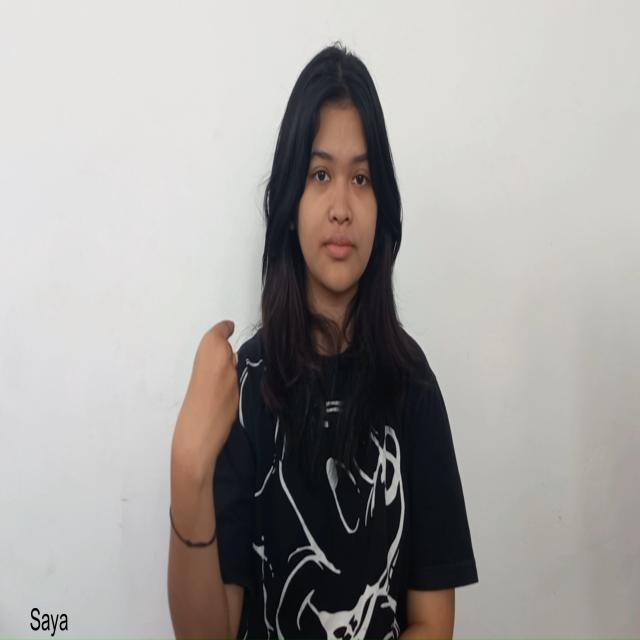Saya -BISINDO-: (165, 313, 244, 505)
